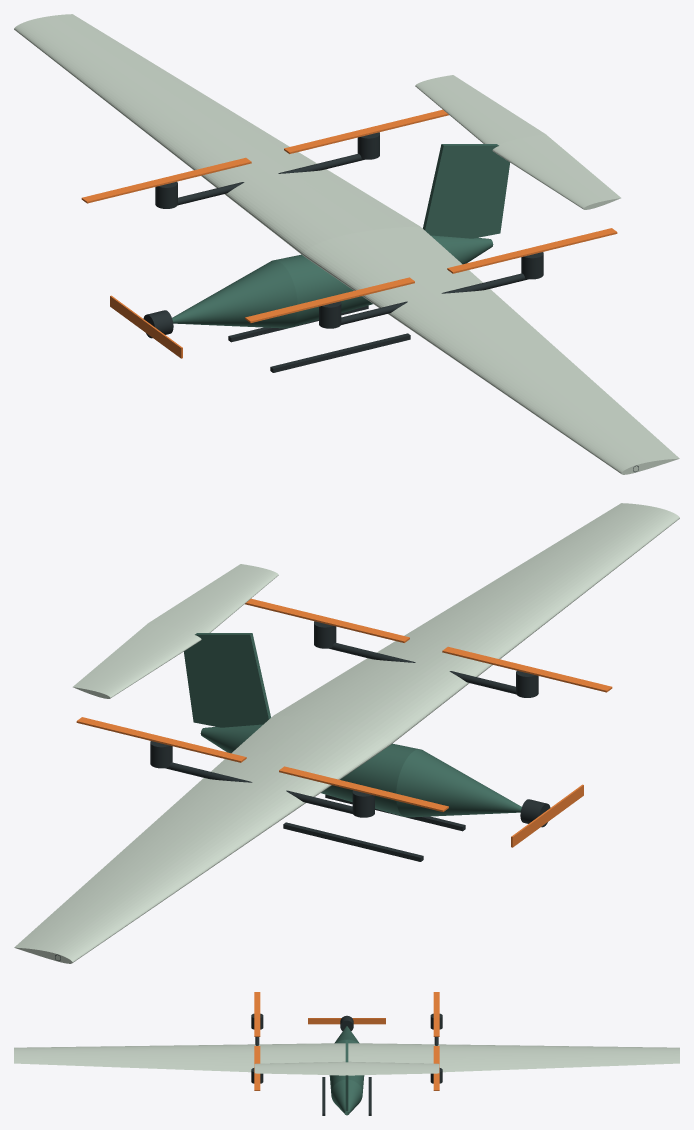
3 renders of one model, top to bottom at view 1: azimuth 30°, elevation 25°; view 2: azimuth 150°, elevation 25°; view 3: azimuth 270°, elevation 25°, orthographic. The views are drawn at different scales.
Visible parts, largest first — view 1: wing-1, wing1, fuselage, fin, tail-1, tail1, prop_-1_700.0, prop_1_200.0, prop_-1_200.0, prop_1_700.0, skid-1, boom-1 (+2 smaller); view 2: wing1, wing-1, fuselage, fin, tail1, tail-1, prop_1_700.0, prop_-1_200.0, prop_1_200.0, prop_-1_700.0, skid1, boom1 (+2 smaller); view 3: wing-1, wing1, fuselage, tail-1, tail1, cruise_prop, prop_-1_200.0, prop_1_200.0, prop_-1_700.0, prop_1_700.0, fin.
Boxes of the visible parts, <box> form: wing-1: <box>303,226,679,474</box>; wing1: <box>14,14,419,255</box>; fuselage: <box>172,235,493,328</box>; fin: <box>423,144,509,238</box>; tail-1: <box>492,134,620,209</box>; tail1: <box>415,75,544,144</box>; prop_-1_700.0: <box>447,228,617,273</box>; prop_1_200.0: <box>81,157,251,203</box>; prop_-1_200.0: <box>245,277,414,322</box>; prop_1_700.0: <box>284,109,448,153</box>; skid-1: <box>270,333,410,372</box>; boom-1: <box>341,273,528,324</box>; wing1: <box>14,715,390,963</box>; wing-1: <box>274,503,679,744</box>; fuselage: <box>200,724,521,817</box>; fin: <box>184,633,270,727</box>; tail1: <box>73,623,201,698</box>; tail-1: <box>149,564,278,633</box>; prop_1_700.0: <box>76,717,246,762</box>; prop_-1_200.0: <box>442,646,612,692</box>; prop_1_200.0: <box>279,766,448,811</box>; prop_-1_700.0: <box>245,598,409,642</box>; skid1: <box>283,822,423,861</box>; boom1: <box>165,762,352,813</box>; wing-1: <box>14,1043,345,1075</box>; wing1: <box>348,1043,679,1075</box>; fuselage: <box>329,1026,364,1115</box>; tail-1: <box>254,1061,346,1075</box>; tail1: <box>347,1061,439,1075</box>; cruise_prop: <box>308,1018,385,1024</box>; prop_-1_200.0: <box>254,992,260,1036</box>; prop_1_200.0: <box>433,992,439,1036</box>; prop_-1_700.0: <box>254,1046,260,1090</box>; prop_1_700.0: <box>433,1046,439,1090</box>; fin: <box>345,1040,348,1110</box>.
Size of the model in its own units: 989 by 390 by 2600.
